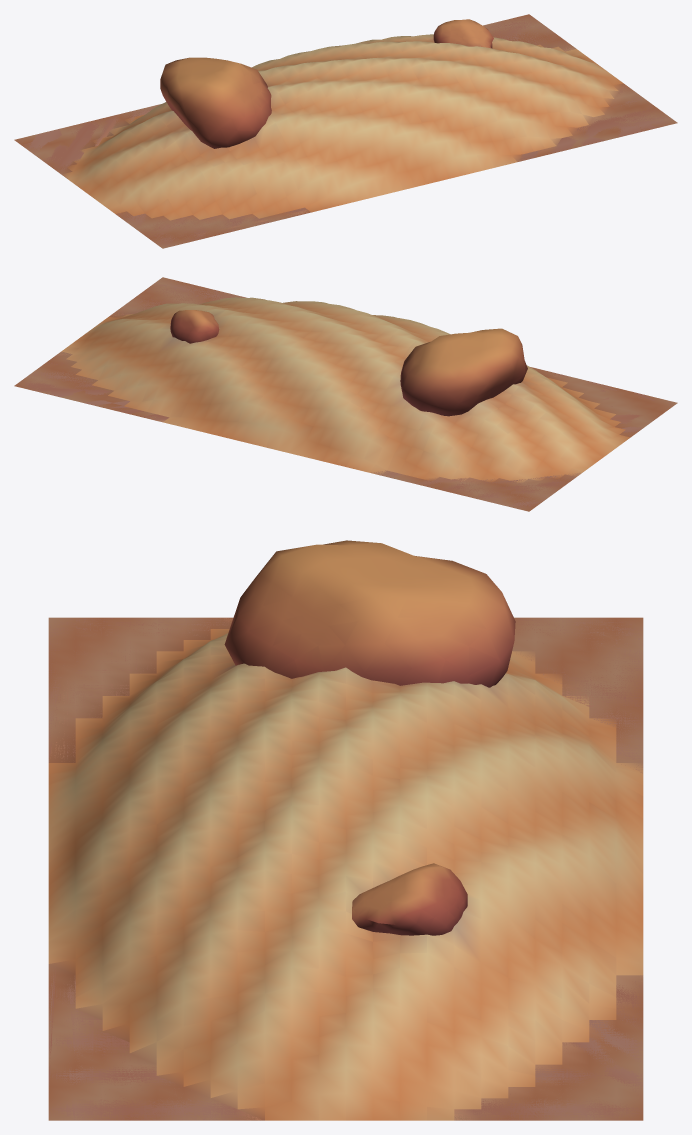
File: amber_misc_dune_rocks_b.glb
3 renders of one model, top to bottom at view 1: azimuth 30°, elevation 25°; view 2: azimuth 150°, elevation 25°; view 3: azimuth 270°, elevation 25°, orthographic. The views are drawn at different scales.
Parts seen in each view (by area): view 1: amber_misc_dune_rocks_b; view 2: amber_misc_dune_rocks_b; view 3: amber_misc_dune_rocks_b.
Boxes of the visible parts, x1=… form: amber_misc_dune_rocks_b: x1=14, y1=14, x2=677, y2=248; amber_misc_dune_rocks_b: x1=14, y1=277, x2=677, y2=511; amber_misc_dune_rocks_b: x1=48, y1=540, x2=643, y2=1120.
Size of the model in its own units: 10 by 1.67 by 5.
